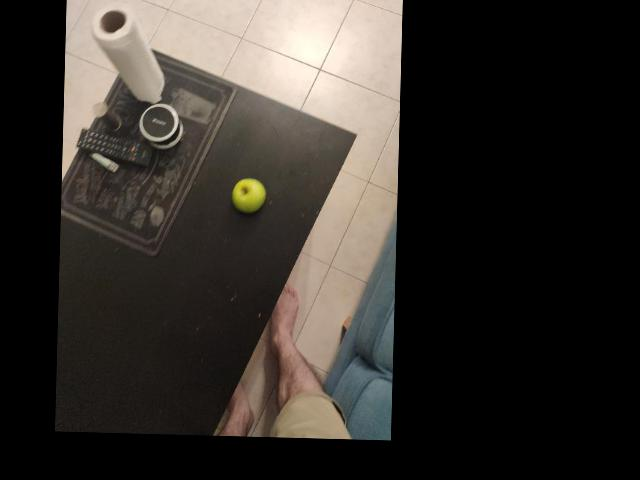apple: (250, 117, 299, 161)
